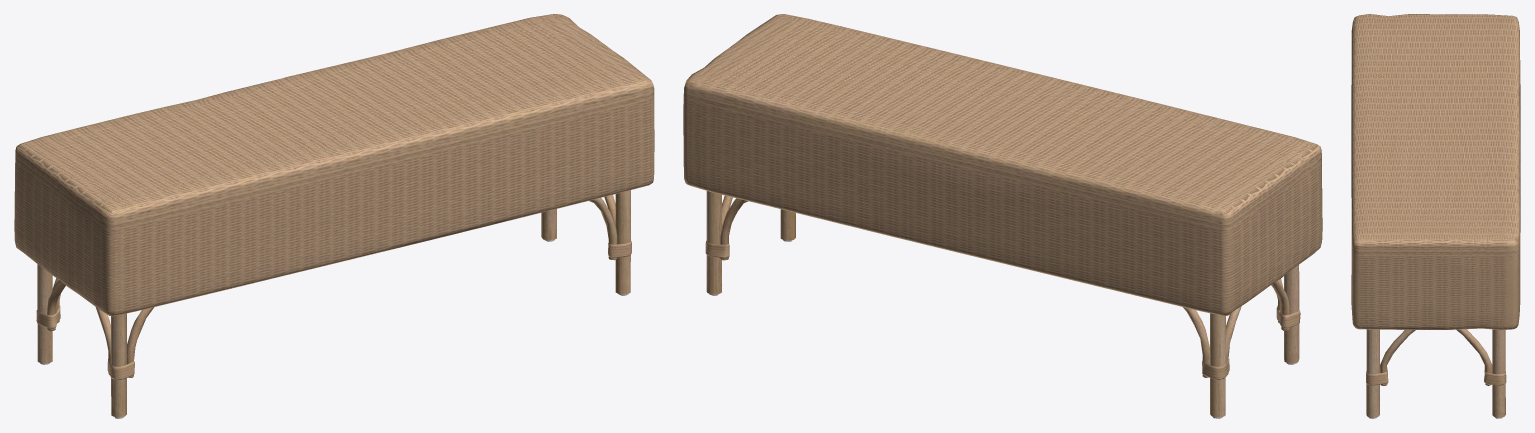
File: tolkning_awka_z_pojemnikiem_80512657.glb
3 views of the same model, side by side, from view 1: azimuth 30°, elevation 25°; view 2: azimuth 150°, elevation 25°; view 3: azimuth 270°, elevation 25° (orthographic). The views are drawn at different scales.
Parts seen in each view (by area): view 1: tolkning_awka_z_pojemnikiem_80512657; view 2: tolkning_awka_z_pojemnikiem_80512657; view 3: tolkning_awka_z_pojemnikiem_80512657.
Part boxes in pixels (bbox=[...]): tolkning_awka_z_pojemnikiem_80512657: bbox=[14, 14, 654, 418]; tolkning_awka_z_pojemnikiem_80512657: bbox=[683, 14, 1322, 418]; tolkning_awka_z_pojemnikiem_80512657: bbox=[1351, 14, 1520, 418].
Size of the model in its own units: 1.2 by 0.4551 by 0.3743.
Materials: 1 (1 with a texture image).
